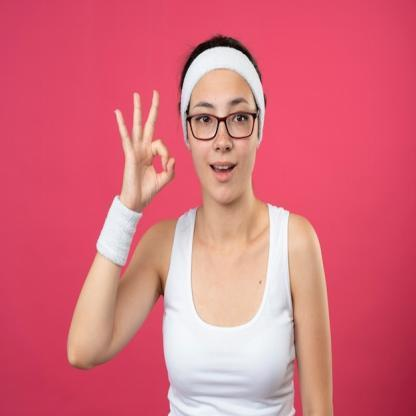ok: (110, 85, 179, 211)
